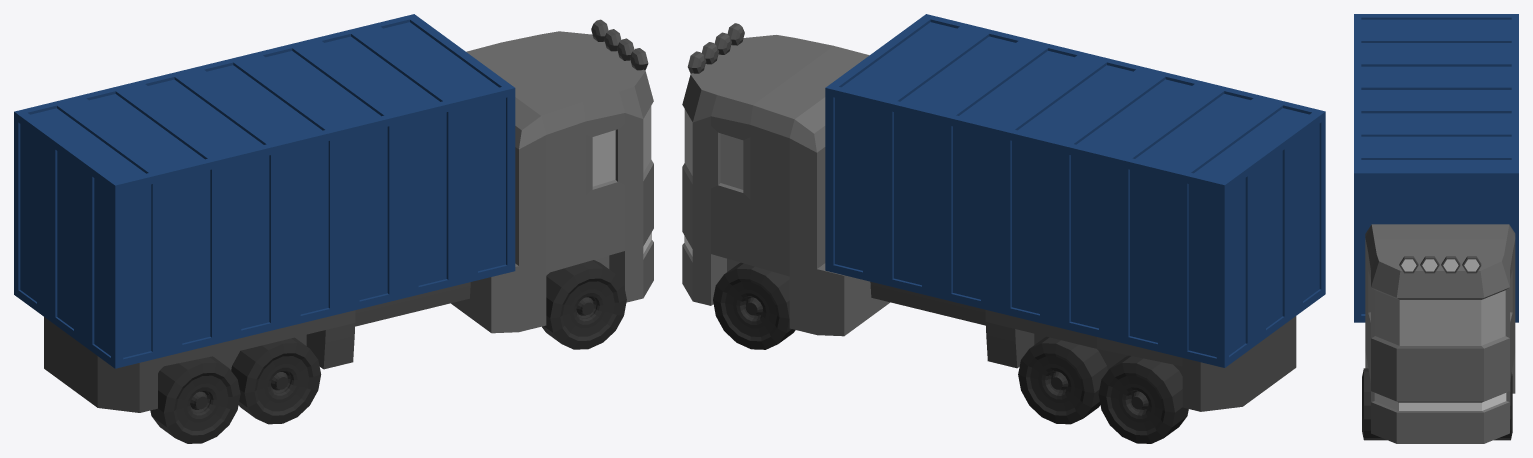
3 views of the same model, side by side, from view 1: azimuth 30°, elevation 25°; view 2: azimuth 150°, elevation 25°; view 3: azimuth 270°, elevation 25° (orthographic). The views are drawn at different scales.
Parts seen in each view (by area): view 1: Cube.057, B-3, Cylinder.015, Cylinder.019, Cylinder.017; view 2: Cube.057, B-3, Cylinder.016, Cylinder.018, Cylinder.020; view 3: Cube.057, B-3, Cylinder.019, Cylinder.020.
Boxes of the visible parts, x1,y1,x2,y2 form: Cube.057: (14, 14, 515, 368); B-3: (44, 19, 653, 412); Cylinder.015: (150, 356, 240, 443); Cylinder.019: (542, 260, 626, 349); Cylinder.017: (231, 337, 321, 424); Cube.057: (825, 14, 1325, 367); B-3: (682, 23, 1296, 411); Cylinder.016: (1098, 355, 1188, 443); Cylinder.018: (1018, 336, 1107, 424); Cylinder.020: (713, 262, 795, 349); Cube.057: (1354, 14, 1518, 322); B-3: (1365, 224, 1515, 443); Cylinder.019: (1362, 368, 1386, 440); Cylinder.020: (1494, 372, 1512, 440).
Size of the model in its own units: 2923 by 1409 by 906.
